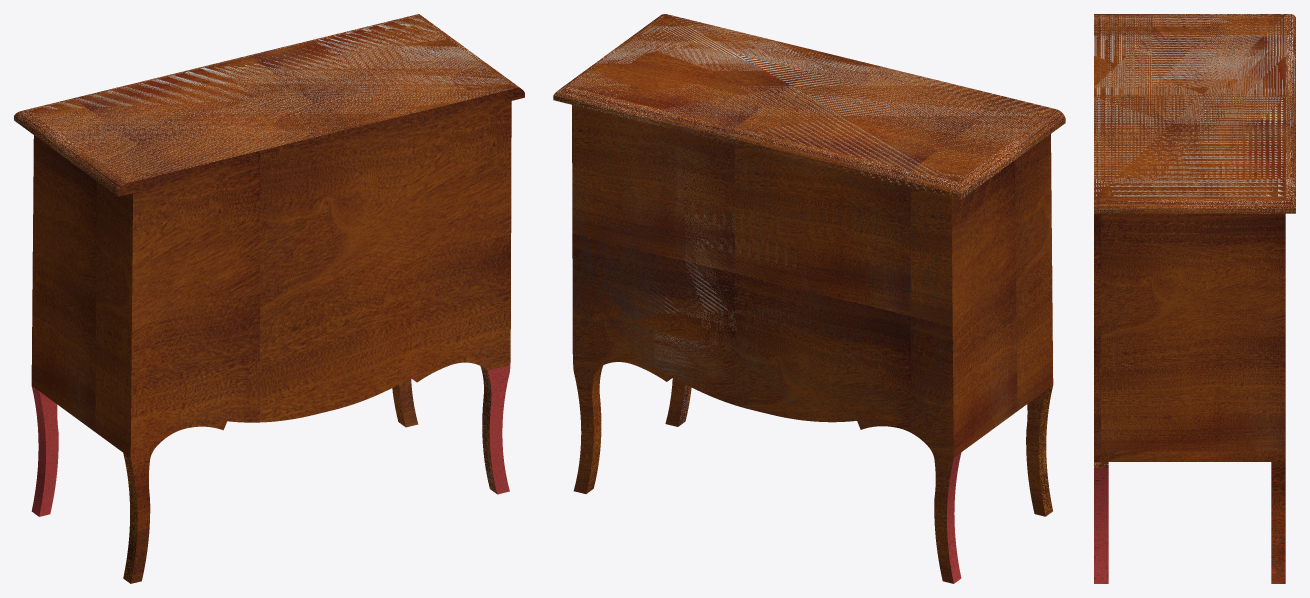
3 renders of one model, left to right at view 1: azimuth 30°, elevation 25°; view 2: azimuth 150°, elevation 25°; view 3: azimuth 270°, elevation 25°, orthographic. The views are drawn at different scales.
Visible parts, largest first — view 1: mesh1_mesh1-geometry; view 2: mesh1_mesh1-geometry; view 3: mesh1_mesh1-geometry.
Boxes of the visible parts, left/top/right/bottom form: mesh1_mesh1-geometry: left=14, top=14, right=524, bottom=583; mesh1_mesh1-geometry: left=553, top=14, right=1065, bottom=583; mesh1_mesh1-geometry: left=1094, top=14, right=1295, bottom=583.
Size of the model in its own units: 0.6918 by 0.6534 by 0.3075.
